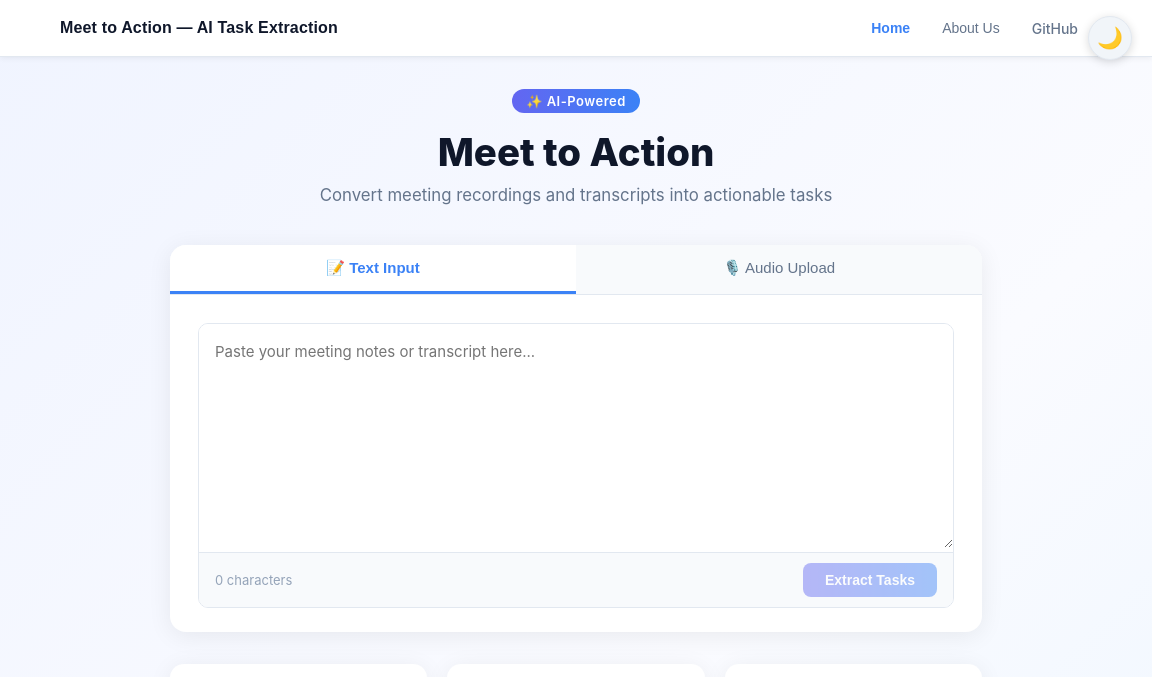
closes export dropdown on Escape key and outside click
This screenshot has width=1152, height=677.
Type "Alice will prepare the report by Friday." into the text box named "Meeting text input" at (576, 436), box [199,324,953,548]
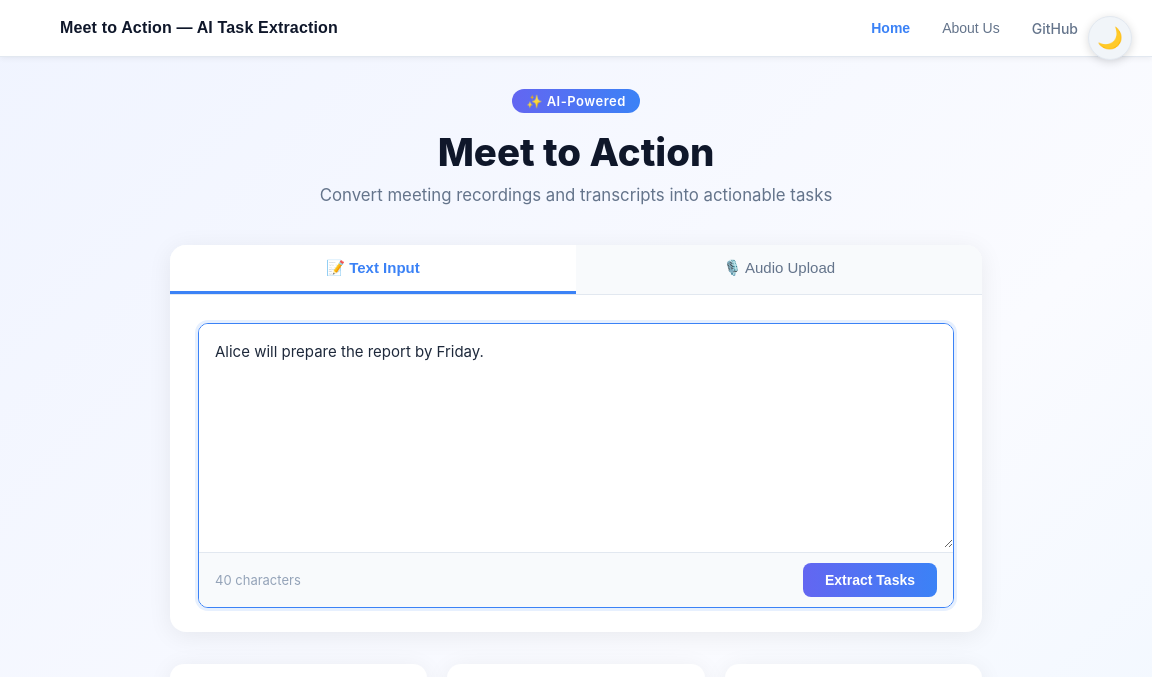
Click the button "Extract Tasks" at (870, 580), box [803,563,937,597]
(page scrolled)
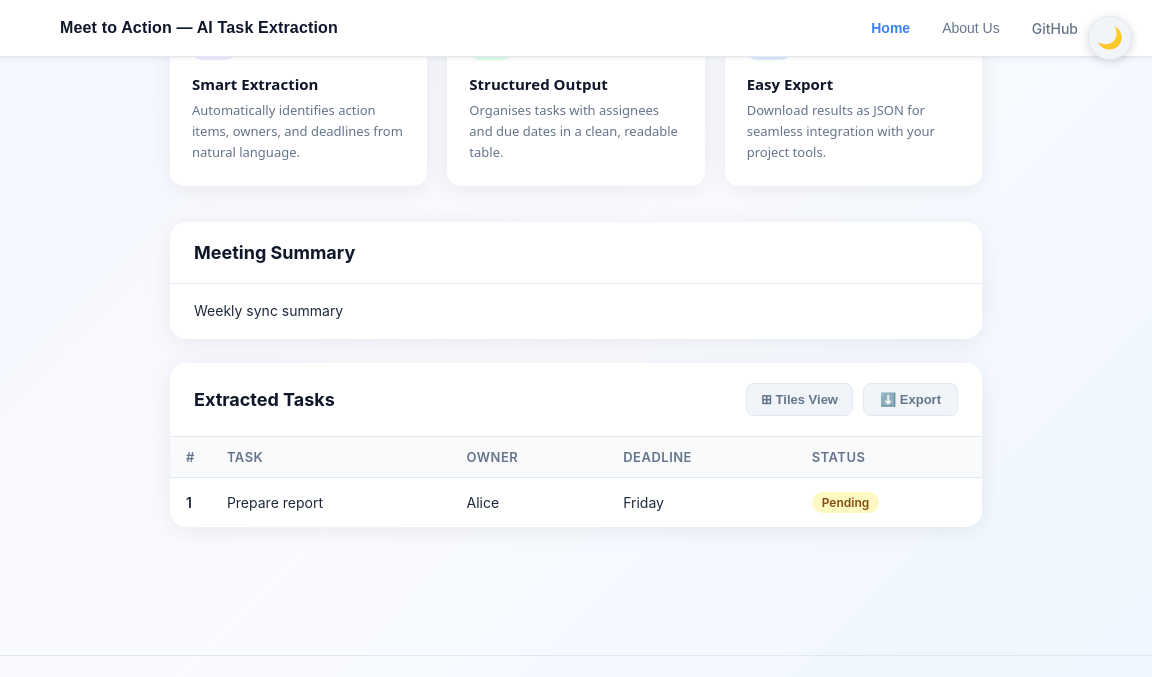
Click the button "⬇️ Export" at (910, 399), box [863,383,958,416]
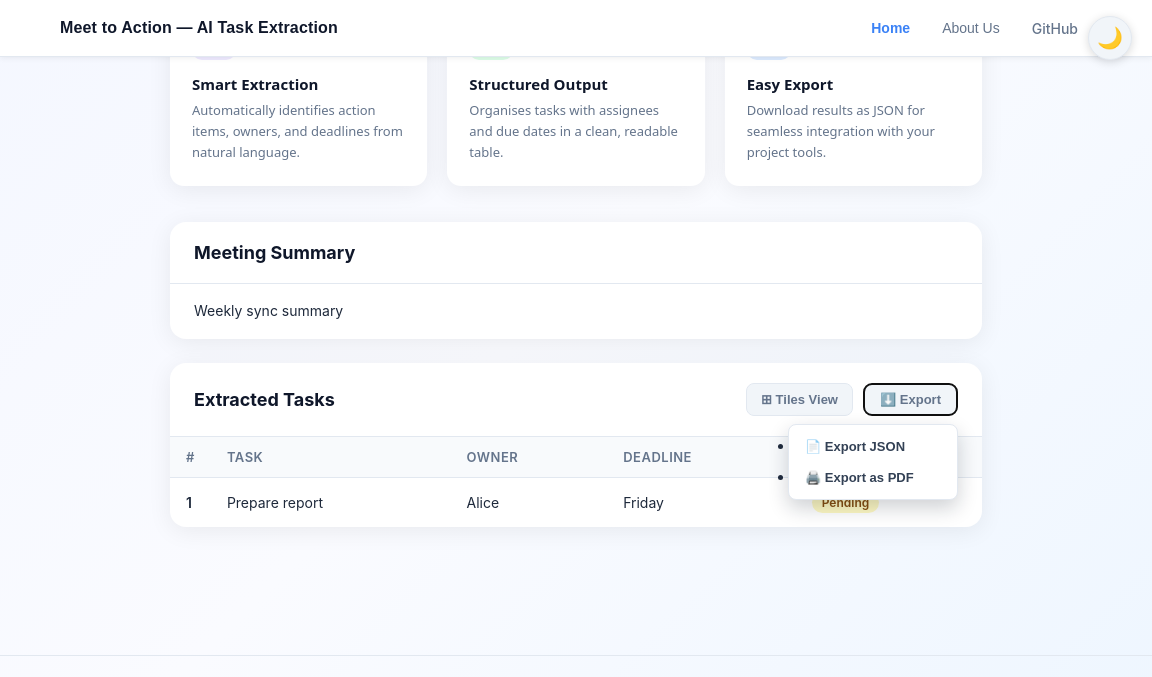
expect the menu item "📄 Export JSON" is shown: met, box [795,431,951,462]
Press Escape
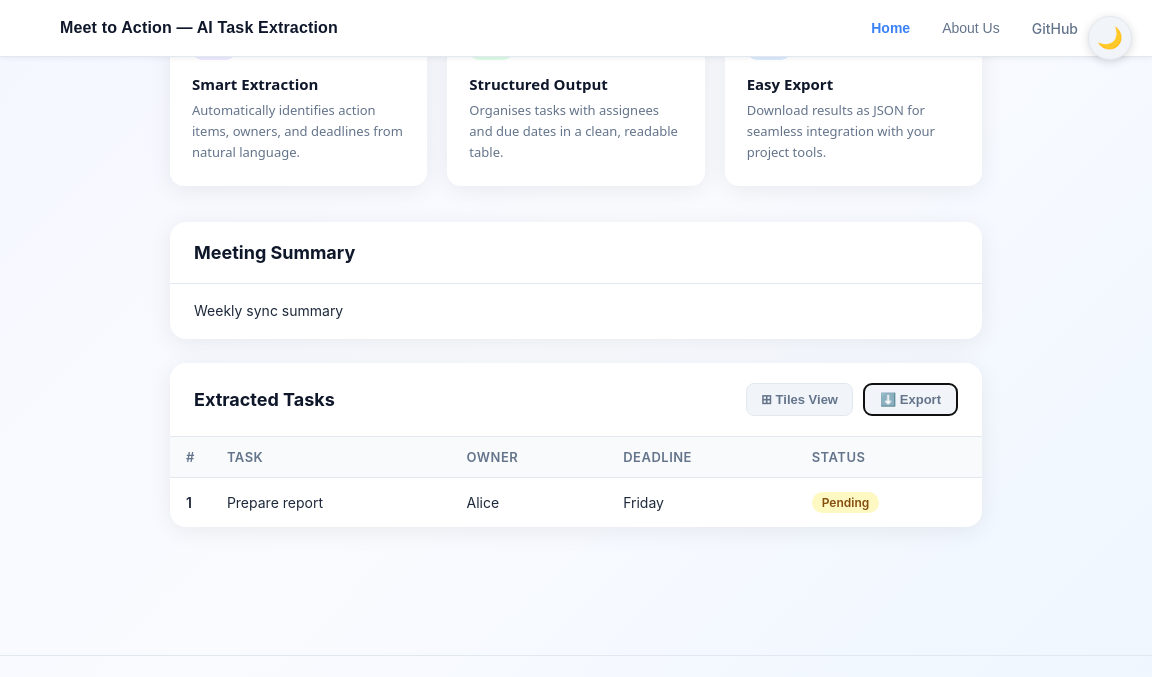
expect the menu item "Export JSON" is gone: met
Click the button "⬇️ Export" at (910, 399), box [863,383,958,416]
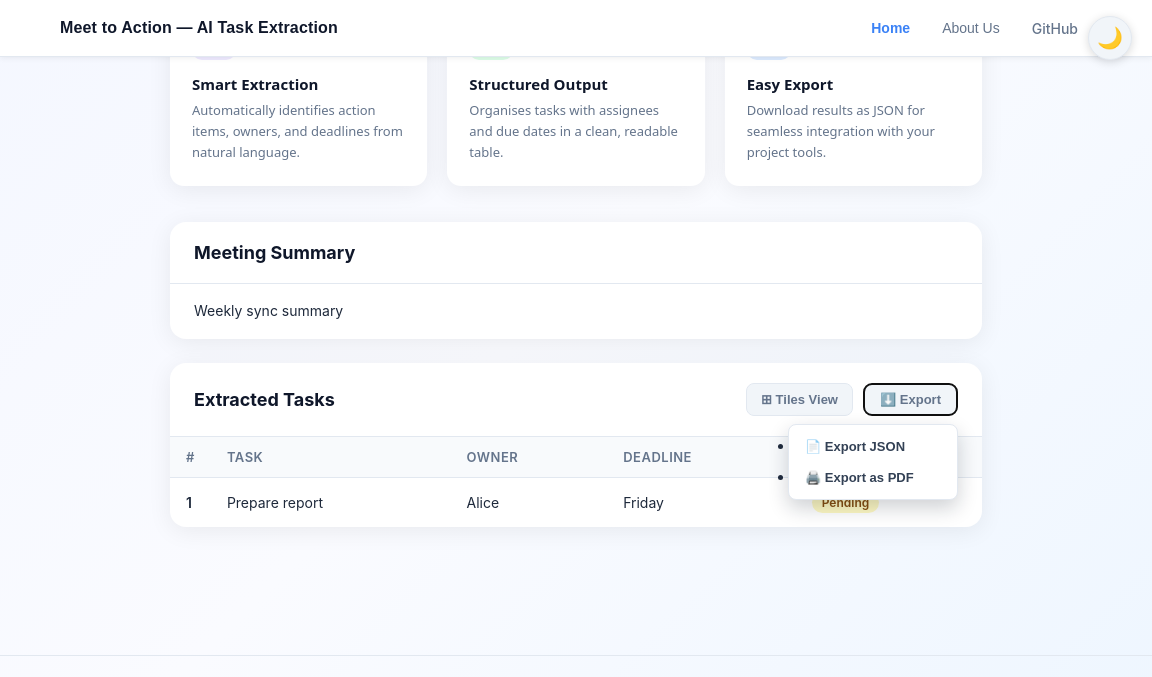
expect the menu item "📄 Export JSON" is shown: met, box [795,431,951,462]
Click the heading "Extracted Tasks" at (264, 399), box [194,389,335,410]
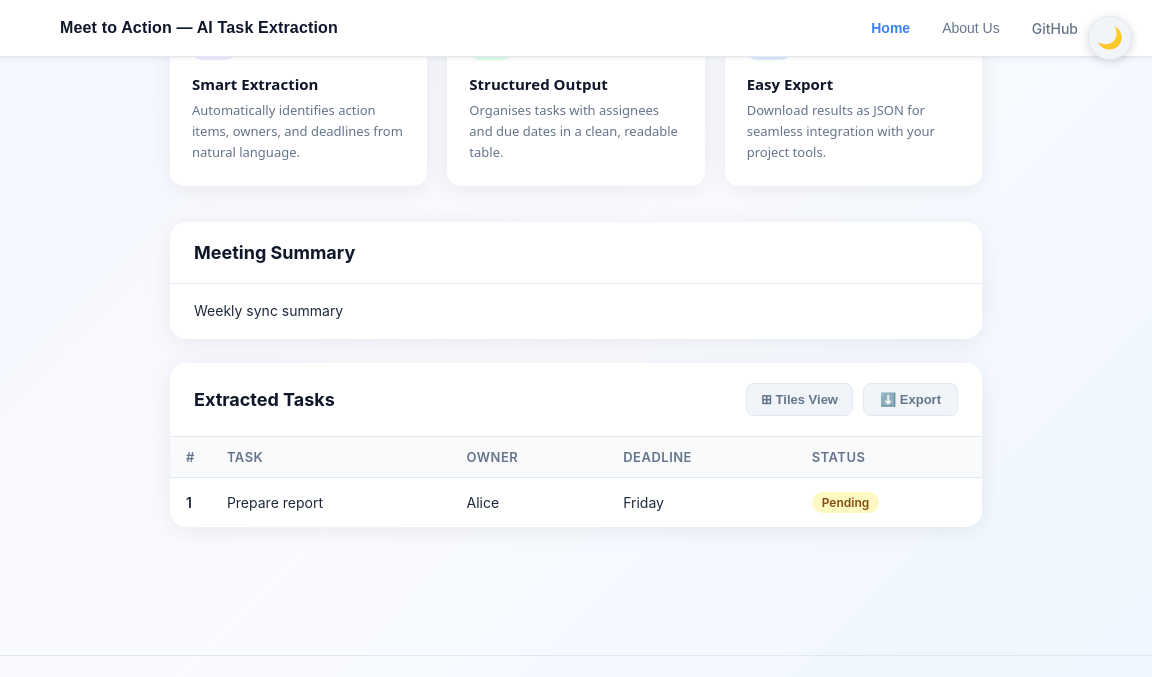
expect the menu item "Export JSON" is gone: met
